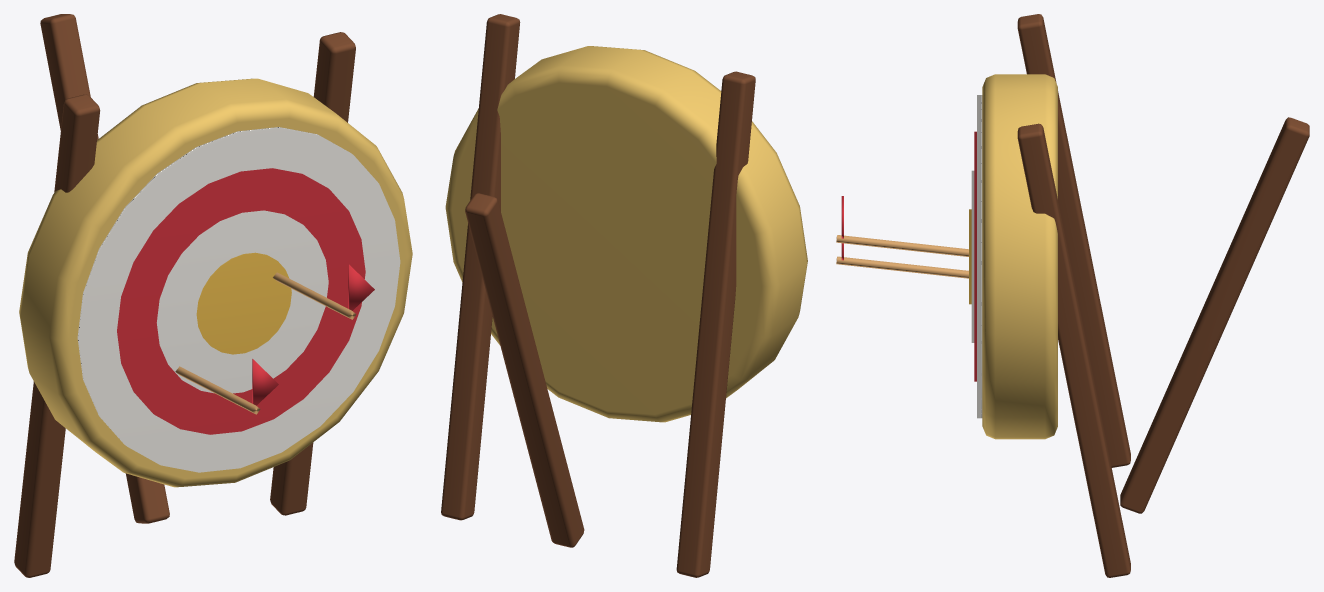
Rendered from faire_hay_target.glb.
The picture shows the model from 3 angles, left to right: view 1: azimuth 30°, elevation 25°; view 2: azimuth 150°, elevation 25°; view 3: azimuth 270°, elevation 25°; orthographic projection. The views are drawn at different scales.
Parts seen in each view (by area): view 1: HayTarget; view 2: HayTarget; view 3: HayTarget.
Part boxes in pixels (x1,y1,x2,y2): HayTarget: (14,14,412,577); HayTarget: (441,14,807,577); HayTarget: (836,14,1309,577).
Size of the model in its own units: 1.7 by 2.28 by 2.19.
